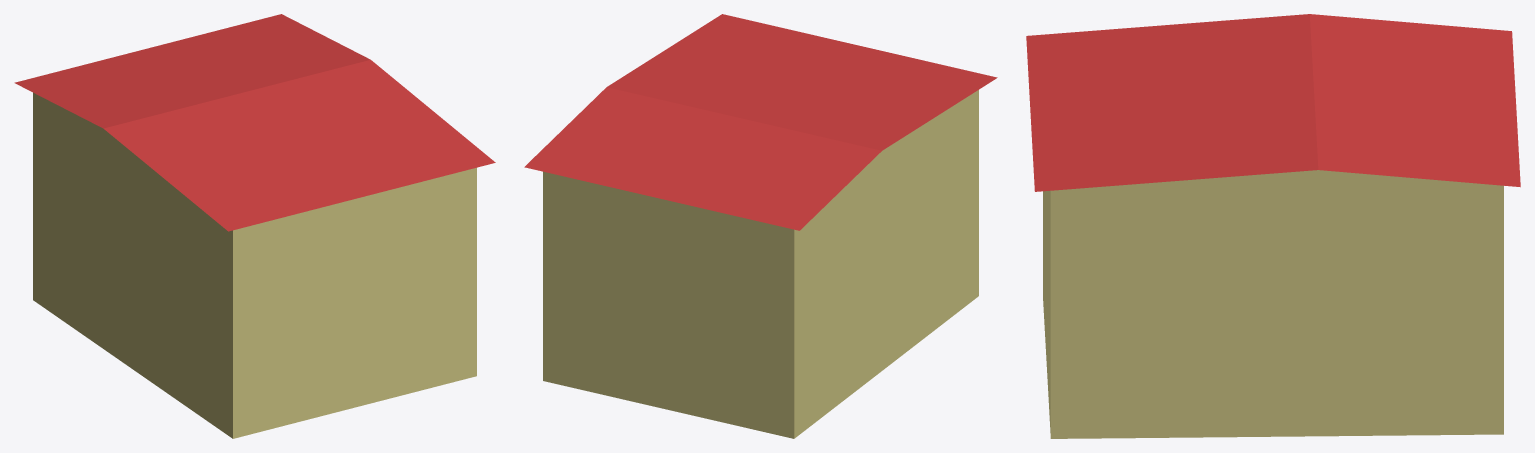
The picture shows the model from 3 angles, left to right: view 1: azimuth 30°, elevation 25°; view 2: azimuth 150°, elevation 25°; view 3: azimuth 270°, elevation 25°; orthographic projection. The views are drawn at different scales.
Bounding box in the file's own units: 11.64 × 15.12 × 9.22.
